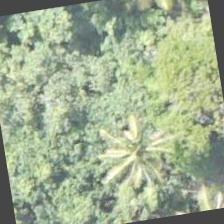Kelapa_Sawit: (83, 104, 186, 208)
